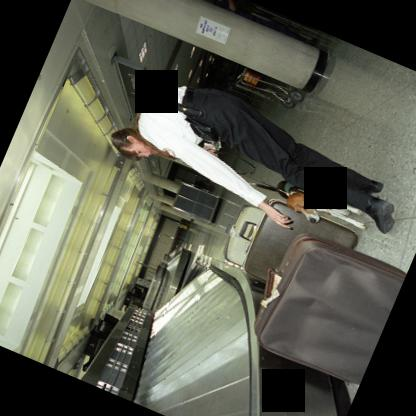suitcase: (252, 227, 406, 383), (241, 198, 359, 281), (223, 203, 264, 267)
